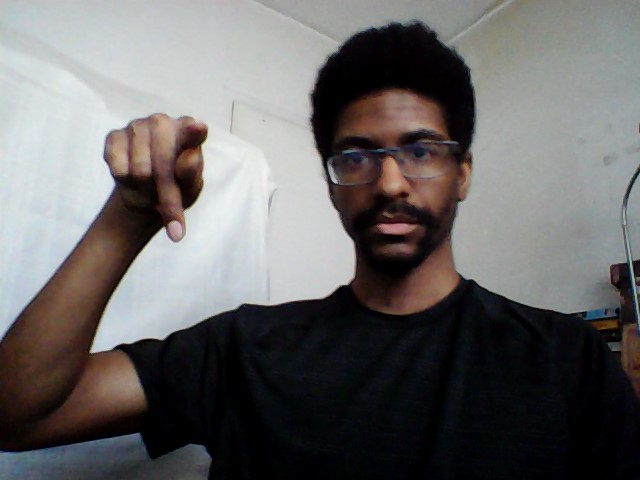p: (99, 106, 211, 250)
